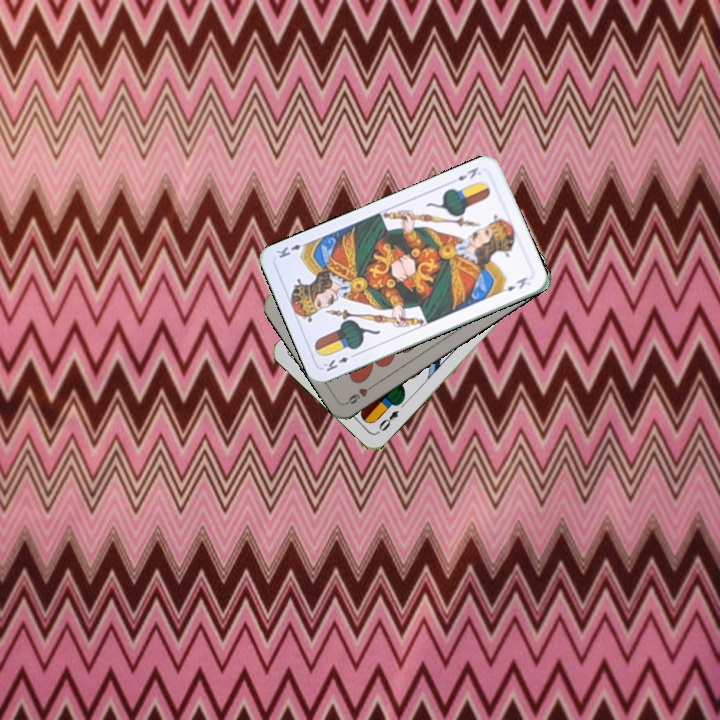EK: (319, 349, 359, 374), (454, 163, 484, 183)
EO: (375, 406, 401, 434)
H9: (342, 379, 379, 407)
